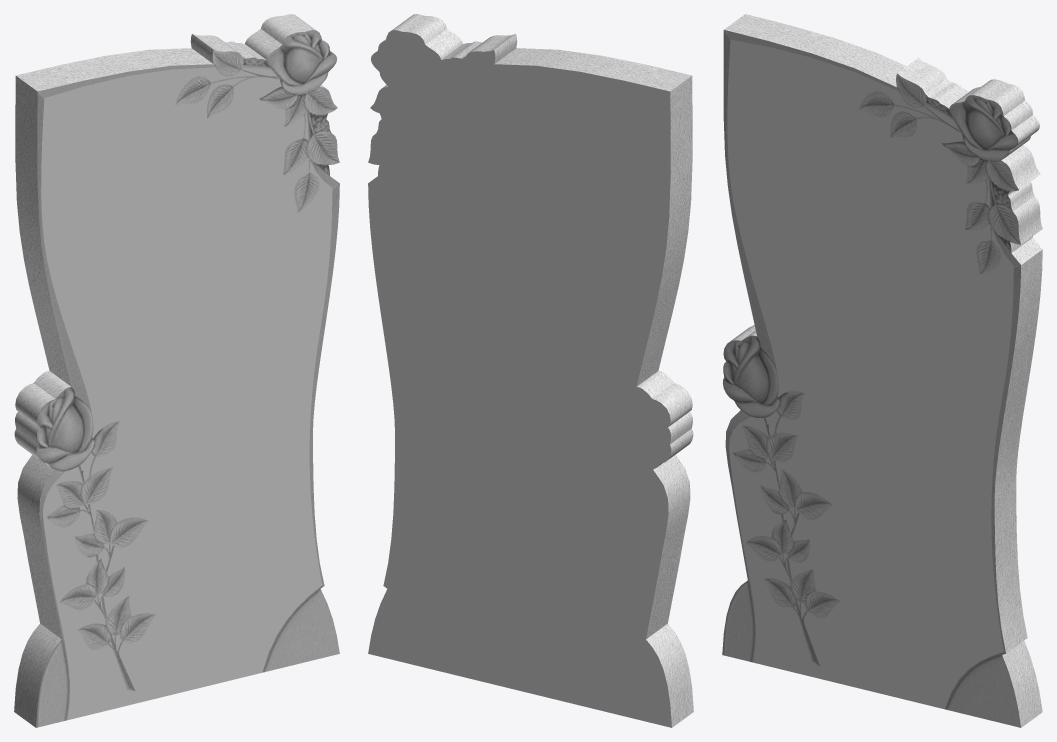
File: cn5796a90ac1_tkf.glb
The picture shows the model from 3 angles, left to right: view 1: azimuth 30°, elevation 25°; view 2: azimuth 150°, elevation 25°; view 3: azimuth 330°, elevation 25°; orthographic projection.
Parts seen in each view (by area): view 1: Pam-d03-168, Pam-d03-168_2_notexture; view 2: Pam-d03-168, Pam-d03-168_2_notexture; view 3: Pam-d03-168, Pam-d03-168_2_notexture.
Part boxes in pixels (x1,y1,x2,y2): Pam-d03-168: (41, 67, 332, 720); Pam-d03-168_2_notexture: (14, 14, 339, 727); Pam-d03-168: (368, 30, 671, 727); Pam-d03-168_2_notexture: (375, 14, 693, 727); Pam-d03-168: (727, 39, 1013, 709); Pam-d03-168_2_notexture: (722, 14, 1042, 727).
Size of the model in its own units: 0.4 by 0.8 by 0.05.
Materials: 1 (1 with a texture image).
